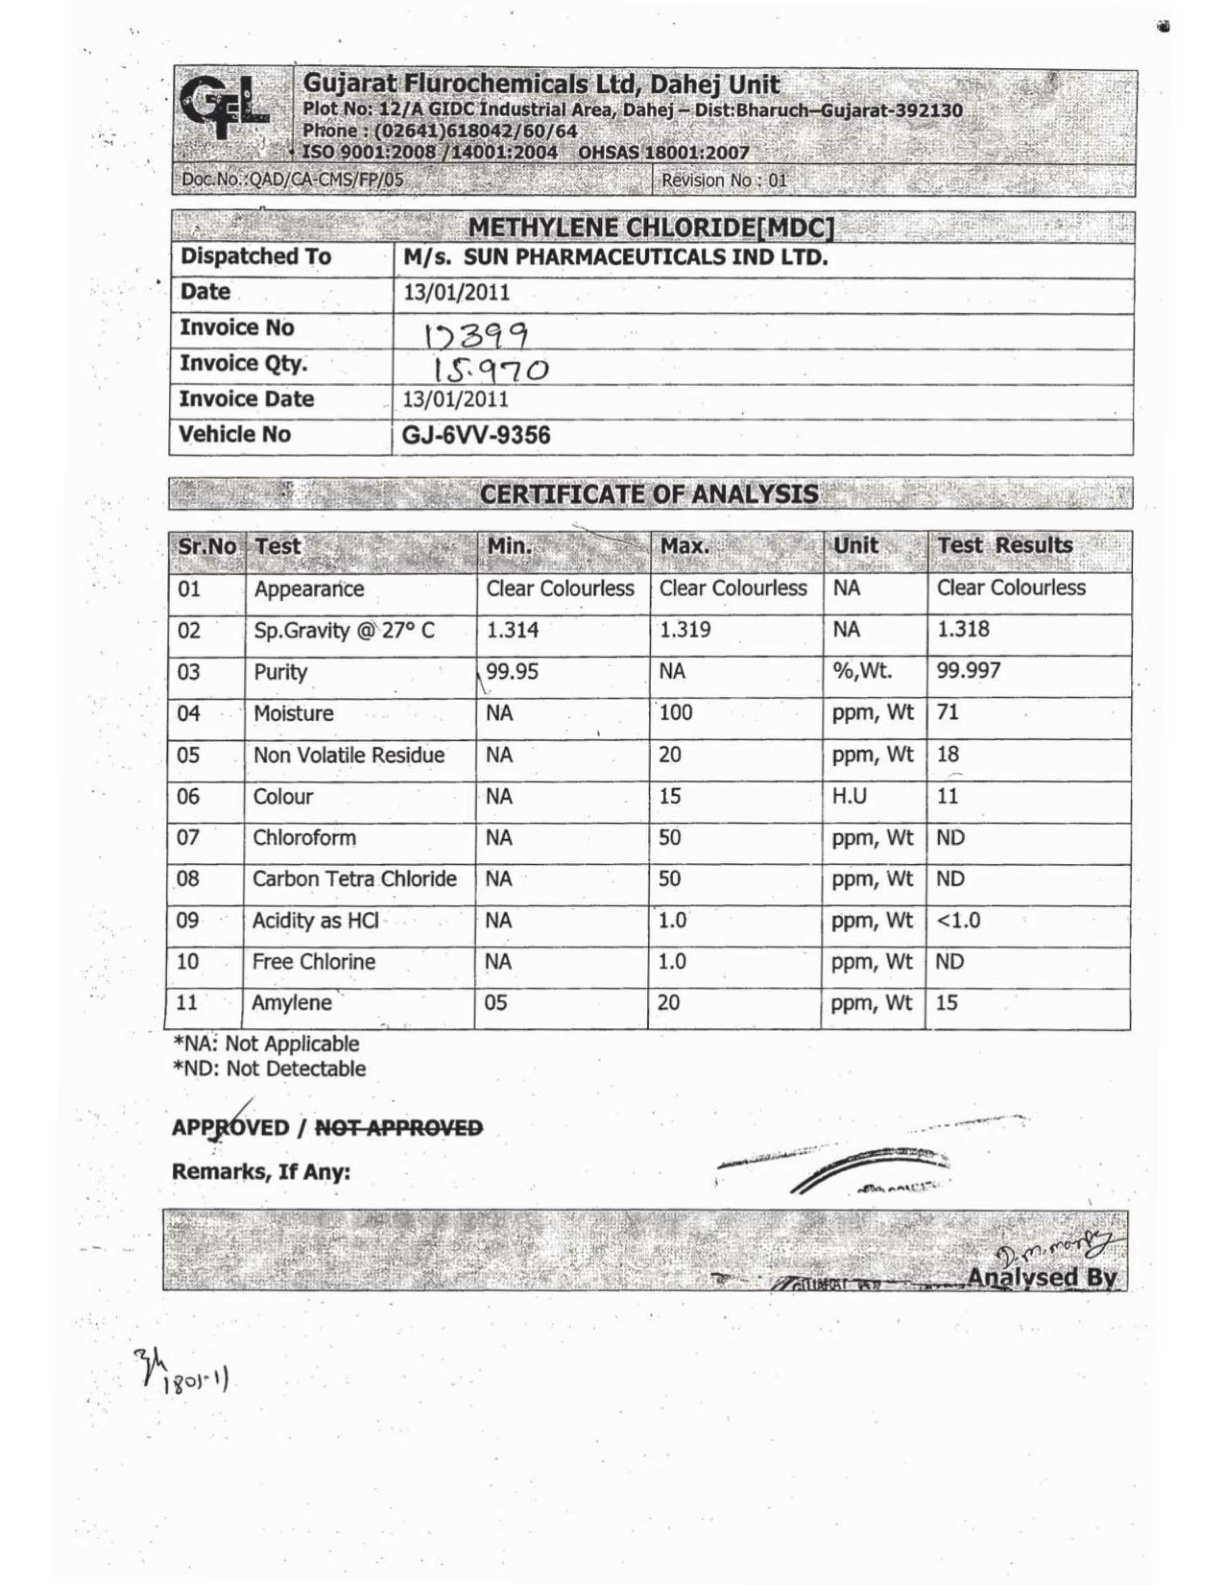full_lined: (166, 528, 1135, 1034)
merged_cells: (166, 207, 1137, 458), (168, 60, 1139, 203)
